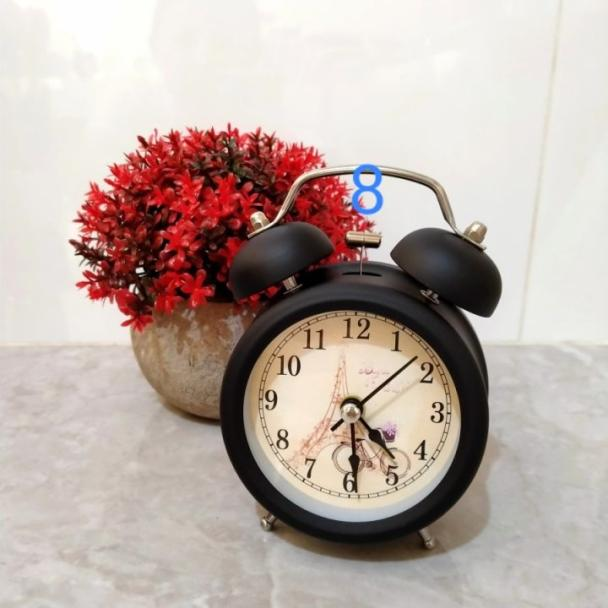Jam: (222, 147, 530, 554)
